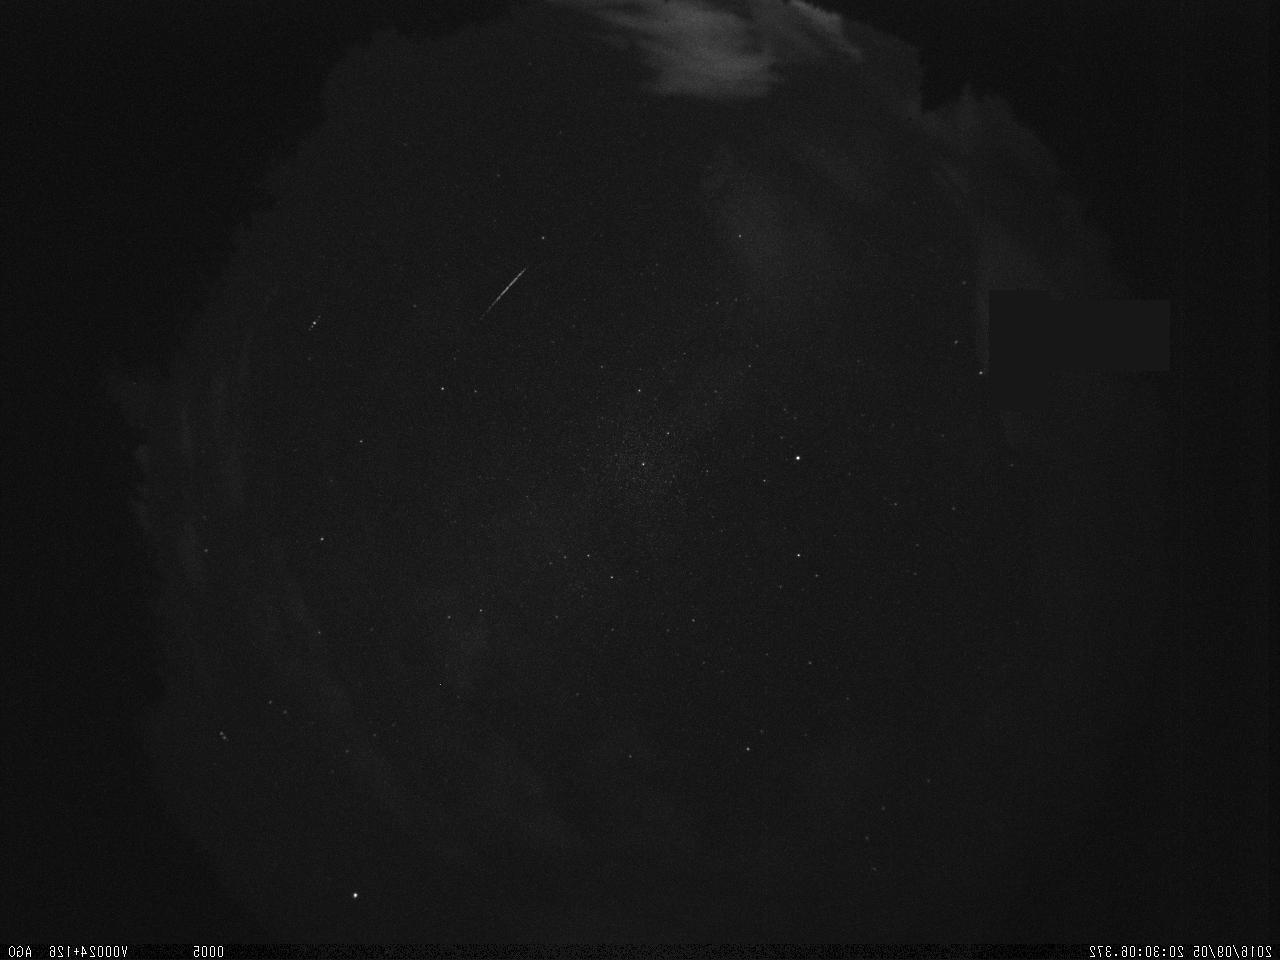meteor: (470, 262, 529, 329)
